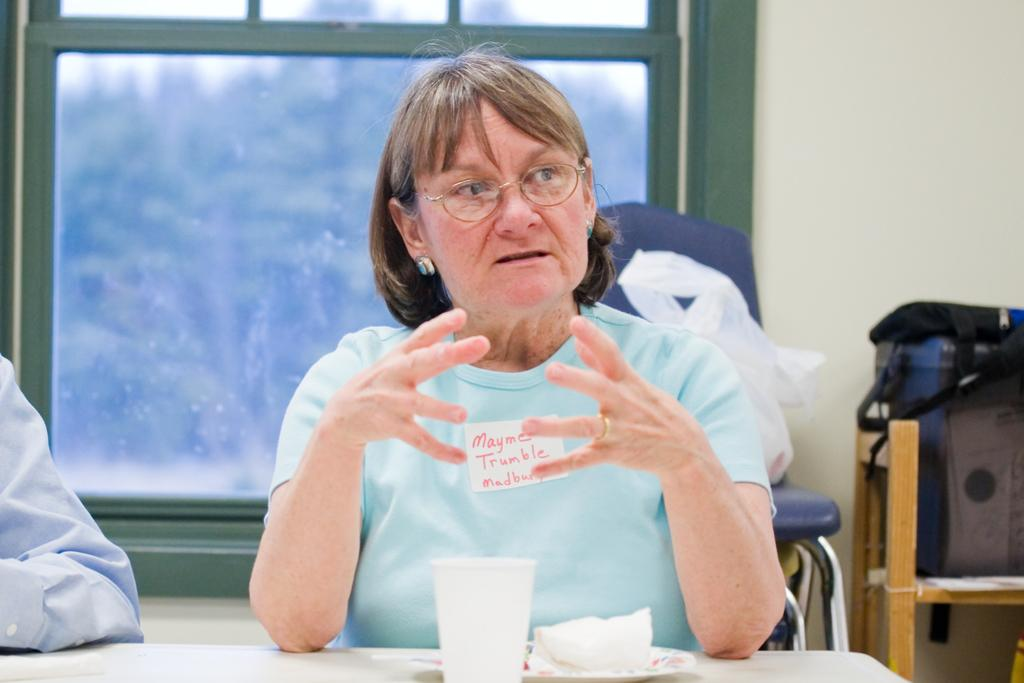Chair: (593, 200, 849, 651)
Luggage-and-bags: (855, 296, 1021, 579)
